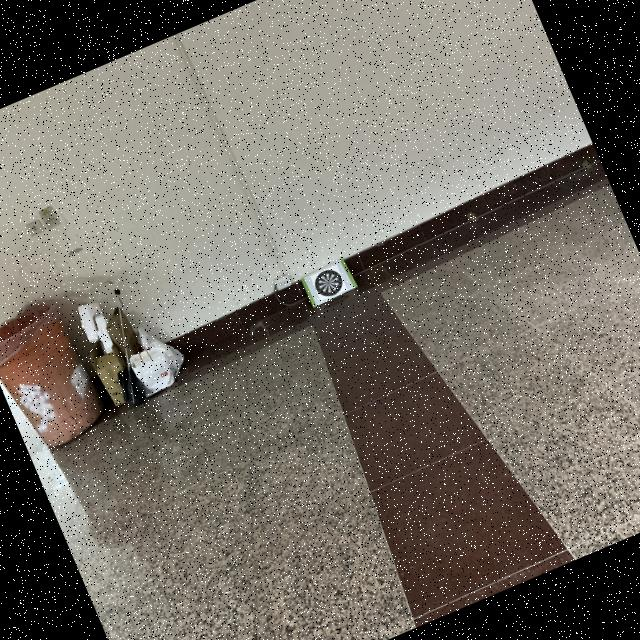archery-targets: (310, 264, 347, 300)
